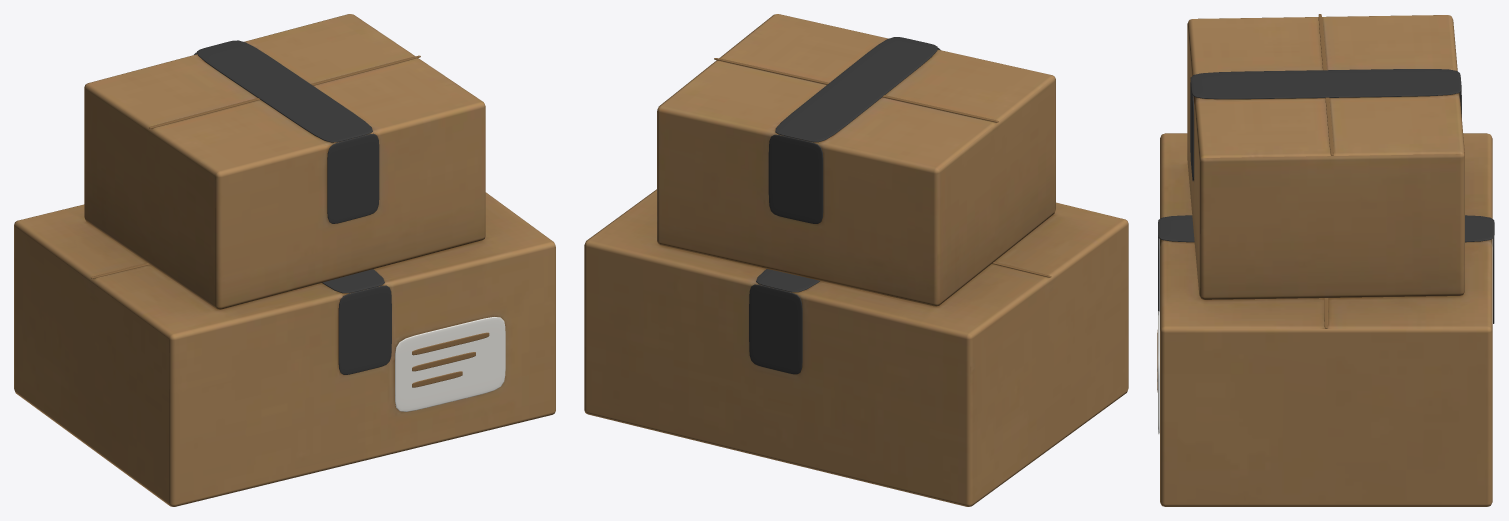
Rendered from parcels.glb.
The picture shows the model from 3 angles, left to right: view 1: azimuth 30°, elevation 25°; view 2: azimuth 150°, elevation 25°; view 3: azimuth 270°, elevation 25°; orthographic projection. The views are drawn at different scales.
Visible parts, largest first — view 1: cardboard, tape, label_white, cardboard_dark; view 2: cardboard, tape, cardboard_dark; view 3: cardboard, tape, cardboard_dark.
Boxes of the visible parts, left/top/right/bottom form: cardboard: left=14, top=14, right=555, bottom=506; tape: left=194, top=40, right=391, bottom=374; label_white: left=395, top=317, right=505, bottom=411; cardboard_dark: left=91, top=55, right=489, bottom=387; cardboard: left=584, top=14, right=1128, bottom=506; tape: left=749, top=37, right=940, bottom=374; cardboard_dark: left=714, top=58, right=1051, bottom=277; cardboard: left=1160, top=15, right=1492, bottom=506; tape: left=1158, top=69, right=1494, bottom=323; cardboard_dark: left=1157, top=14, right=1333, bottom=392.
Size of the model in its own units: 0.351 by 0.2714 by 0.2534.
Materials: 4 (1 with a texture image).
